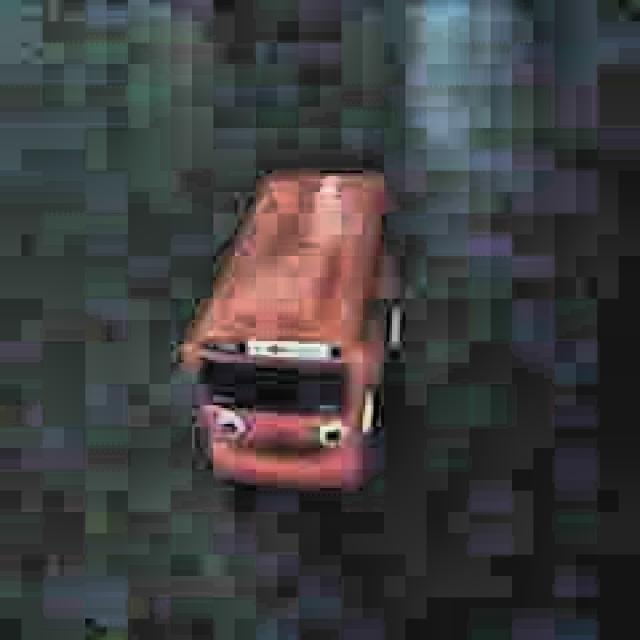bus: (177, 167, 407, 488)
